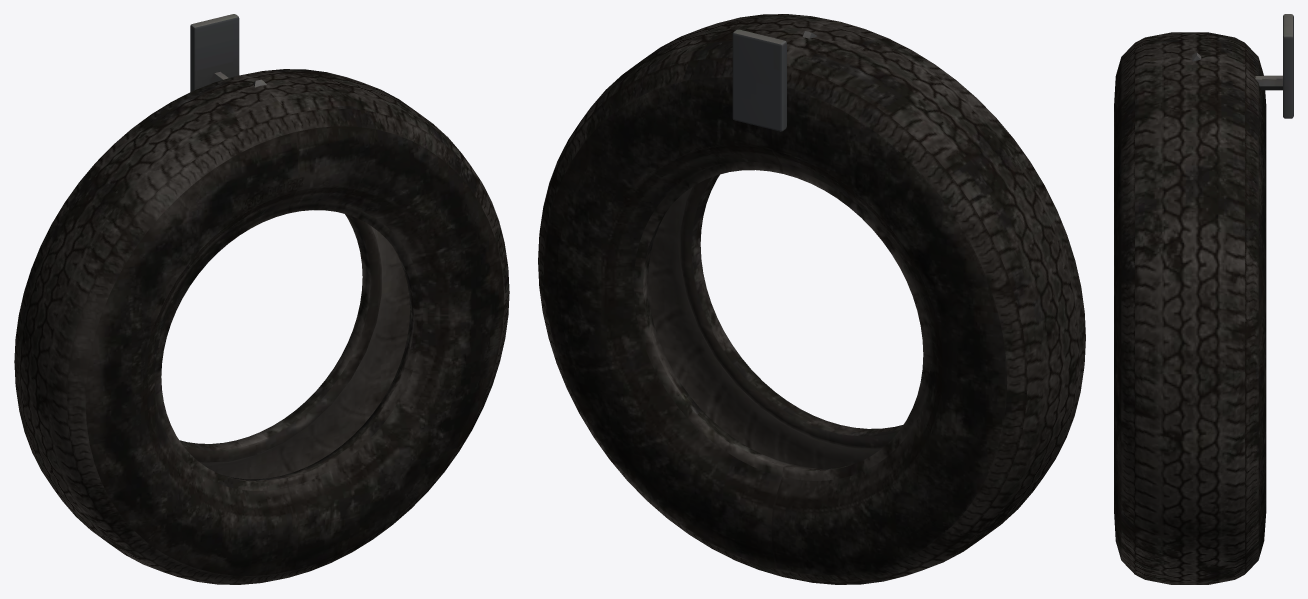
The model's file is tyre_hanging.glb.
3 renders of one model, left to right at view 1: azimuth 30°, elevation 25°; view 2: azimuth 150°, elevation 25°; view 3: azimuth 270°, elevation 25°, orthographic. The views are drawn at different scales.
Visible parts, largest first — view 1: tyre_hanging; view 2: tyre_hanging; view 3: tyre_hanging.
Boxes of the visible parts, x1,y1,x2,y2 form: tyre_hanging: [14, 14, 509, 584]; tyre_hanging: [538, 14, 1085, 584]; tyre_hanging: [1114, 14, 1293, 584].
Bounding box in the file's own units: 0.6 × 0.64 × 0.195.
1 material, 1 textured.
